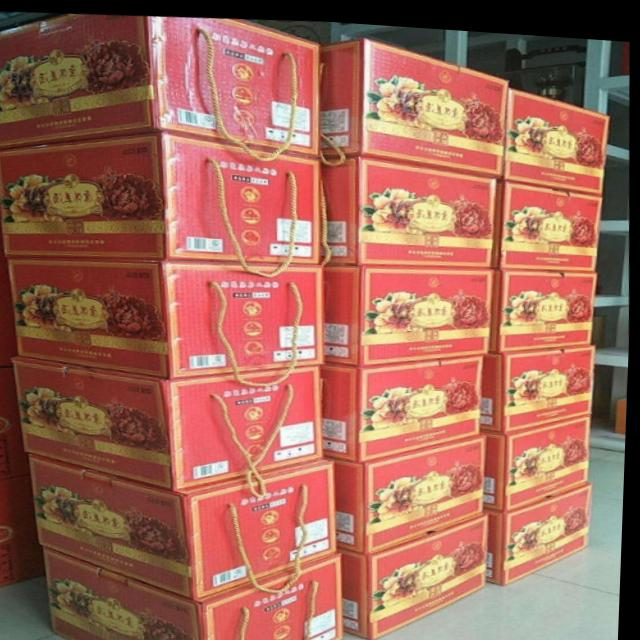box: (0, 13, 323, 152), (32, 451, 337, 594), (0, 129, 325, 260), (19, 354, 324, 486), (6, 255, 316, 374), (50, 545, 351, 640), (318, 32, 507, 172), (327, 425, 491, 546), (321, 152, 500, 259), (341, 505, 489, 634), (318, 258, 497, 360), (323, 345, 482, 456), (488, 472, 599, 577), (502, 81, 608, 188), (482, 335, 599, 425), (487, 407, 590, 504), (492, 175, 606, 262), (490, 261, 602, 344), (0, 466, 53, 588), (415, 32, 516, 77), (0, 362, 37, 478), (515, 56, 585, 101), (0, 253, 22, 364), (523, 29, 581, 59), (0, 207, 6, 253)
